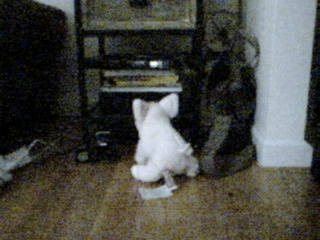piggy: (127, 91, 200, 184)
